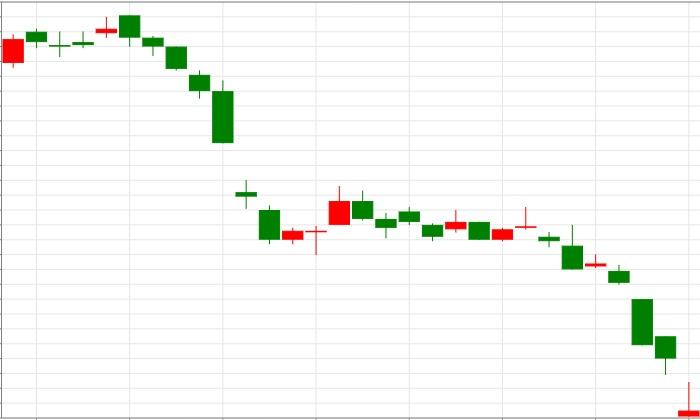three_black_crows_fall: (49, 14, 188, 71)
